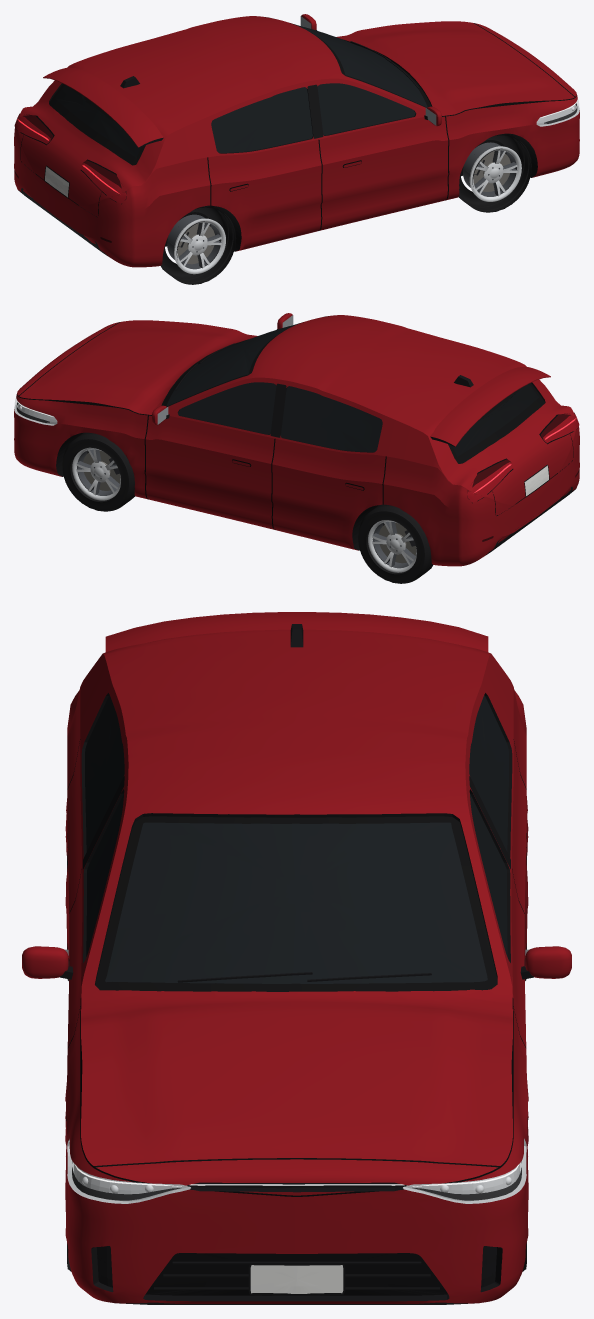
The model's file is golf.glb.
3 views of the same model, one above another, from view 1: azimuth 30°, elevation 25°; view 2: azimuth 150°, elevation 25°; view 3: azimuth 270°, elevation 25° (orthographic). The views are drawn at different scales.
Visible parts, largest first — view 1: BODY, BODY_DETAIL, WHEEL_MESH_RR, WHEEL_MESH_FR, BRAKE_RR, BRAKE_FR; view 2: BODY, BODY_DETAIL, WHEEL_MESH_RL, WHEEL_MESH_FL, BRAKE_RL, BRAKE_FL; view 3: BODY, BODY_DETAIL.
Boxes of the visible parts, x1,y1,x2,y2 form: BODY: (14,16,579,267); BODY_DETAIL: (14,14,578,251); WHEEL_MESH_RR: (161,205,236,284); WHEEL_MESH_FR: (458,133,531,212); BRAKE_RR: (170,223,214,264); BRAKE_FR: (466,151,510,191); BODY: (14,315,579,566); BODY_DETAIL: (15,313,579,549); WHEEL_MESH_RL: (357,504,432,583); WHEEL_MESH_FL: (62,432,135,511); BRAKE_RL: (379,522,416,563); BRAKE_FL: (83,450,120,490); BODY: (65,629,528,1304); BODY_DETAIL: (22,612,571,1295).
Bounding box in the file's own units: 4.31 × 1.46 × 2.12.
